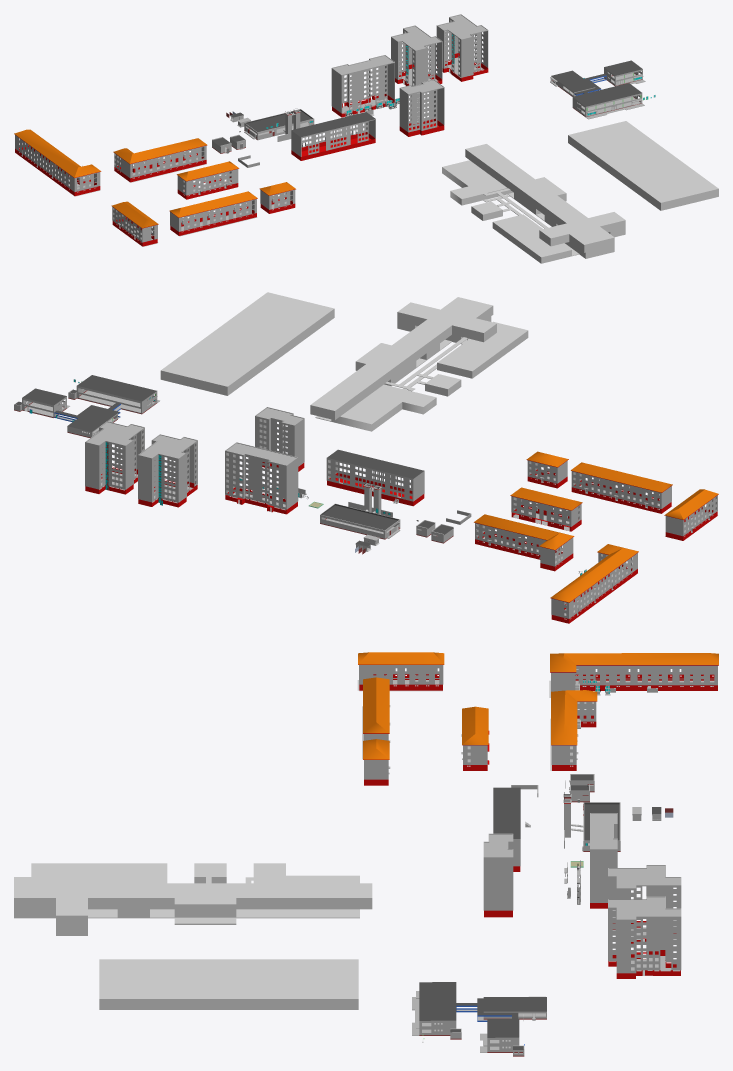
The model's file is tv_buildings.fbx.
The picture shows the model from 3 angles, top to bottom: view 1: azimuth 30°, elevation 25°; view 2: azimuth 150°, elevation 25°; view 3: azimuth 270°, elevation 25°; orthographic projection. The views are drawn at different scales.
Visible parts, largest first — view 1: polySurface2352, pCube1, hires_skolka_1dec, hires_bytovka_1decembra_8p, hires_bytovka_komenskeho_4p, hires_bytovka_3p_L3e, hires_bytovka_berehovska_8p_2, hires_bytovka_3p_L2e, hires_bytovka_berehovska_8p_1, hires_bytovka_3p_3e, hires_bytovka_berehovska_8p, hires_bytovka_3p_garages (+4 smaller); view 2: polySurface2352, pCube1, hires_skolka_1dec, hires_bytovka_1decembra_8p, hires_bytovka_berehovska_8p_1, hires_bytovka_berehovska_8p_2, hires_bytovka_komenskeho_4p, hires_bytovka_3p_L3e, hires_bytovka_3p_L2e, hires_bytovka_3p_3e, hires_kotolna, hires_bytovka_3p_garages (+4 smaller); view 3: polySurface2352, pCube1, hires_bytovka_3p_L3e, hires_skolka_1dec, hires_bytovka_berehovska_8p_2, hires_bytovka_3p_2e, hires_bytovka_3p_L2e, hires_bytovka_berehovska_8p, hires_bytovka_berehovska_8p_1, hires_bytovka_1decembra_8p, polySurface2355, hires_bytovka_3p_3e (+4 smaller).
Part boxes in pixels (box(x1,y1,x2,y2)): polySurface2352: box(442, 144, 625, 263); pCube1: box(568, 121, 718, 210); hires_skolka_1dec: box(550, 60, 645, 119); hires_bytovka_1decembra_8p: box(331, 55, 394, 117); hires_bytovka_komenskeho_4p: box(291, 112, 375, 160); hires_bytovka_3p_L3e: box(14, 129, 101, 196); hires_bytovka_berehovska_8p_2: box(436, 14, 488, 81); hires_bytovka_3p_L2e: box(113, 138, 207, 182); hires_bytovka_berehovska_8p_1: box(391, 25, 442, 85); hires_bytovka_3p_3e: box(169, 191, 257, 236); hires_bytovka_berehovska_8p: box(399, 79, 444, 136); hires_bytovka_3p_garages: box(177, 161, 239, 199); polySurface2352: box(310, 297, 528, 431); pCube1: box(160, 292, 334, 395); hires_skolka_1dec: box(14, 375, 159, 437); hires_bytovka_1decembra_8p: box(225, 442, 298, 514); hires_bytovka_berehovska_8p_1: box(138, 434, 197, 507); hires_bytovka_berehovska_8p_2: box(85, 421, 144, 494); hires_bytovka_komenskeho_4p: box(326, 449, 424, 506); hires_bytovka_3p_L3e: box(550, 544, 638, 623); hires_bytovka_3p_L2e: box(474, 514, 574, 571); hires_bytovka_3p_3e: box(571, 462, 672, 513); hires_kotolna: box(320, 482, 400, 539); hires_bytovka_3p_garages: box(510, 487, 582, 531); polySurface2352: box(14, 863, 372, 935); pCube1: box(99, 959, 358, 1009); hires_bytovka_3p_L3e: box(549, 653, 718, 697); hires_skolka_1dec: box(412, 982, 546, 1056); hires_bytovka_berehovska_8p_2: box(608, 896, 681, 978); hires_bytovka_3p_2e: box(357, 652, 444, 691); hires_bytovka_3p_L2e: box(550, 690, 597, 770); hires_bytovka_berehovska_8p: box(483, 833, 513, 917); hires_bytovka_berehovska_8p_1: box(608, 865, 681, 943); hires_bytovka_1decembra_8p: box(590, 813, 617, 908); polySurface2355: box(88, 909, 359, 924); hires_bytovka_3p_3e: box(362, 677, 390, 759).
Size of the model in its own units: 361 by 26.8 by 285.
